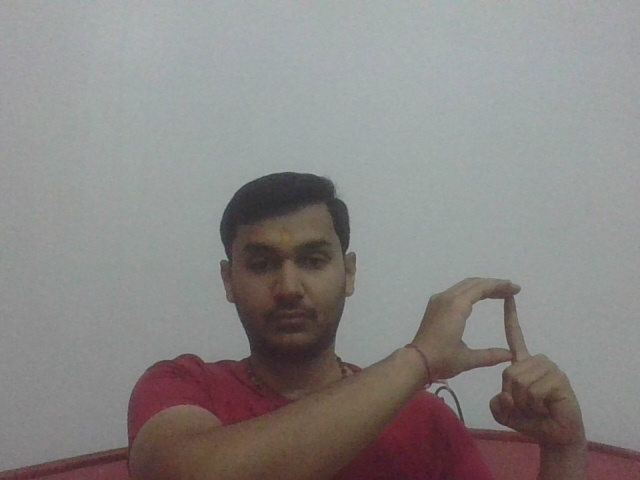D: (413, 274, 595, 444)
